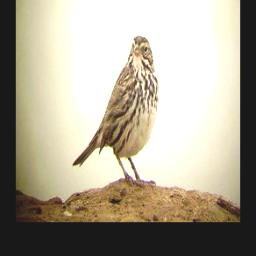Sparrow: (71, 34, 160, 188)
